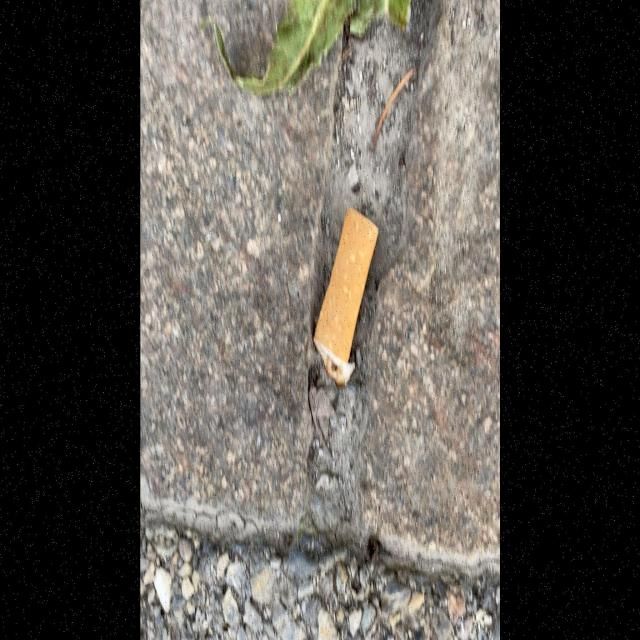other waste: (312, 204, 379, 388)
